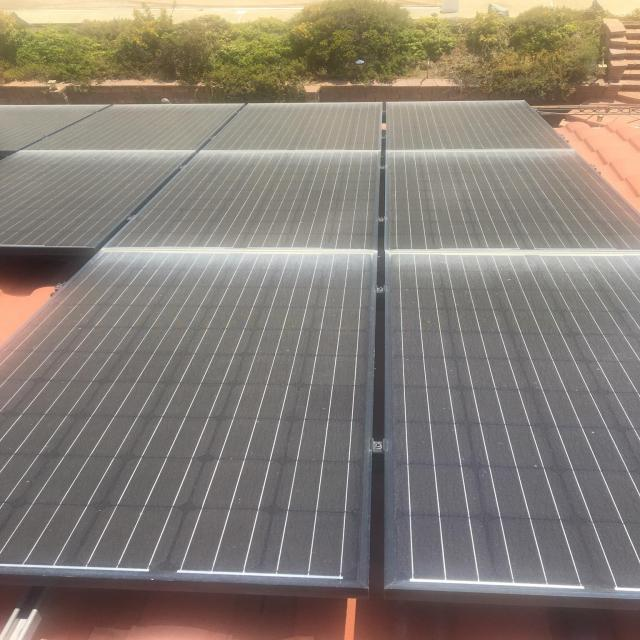dust-solar-panel: (0, 100, 637, 606)
